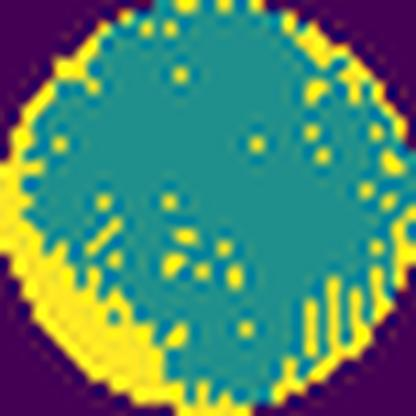Edge-Loc: (0, 11, 262, 416)
